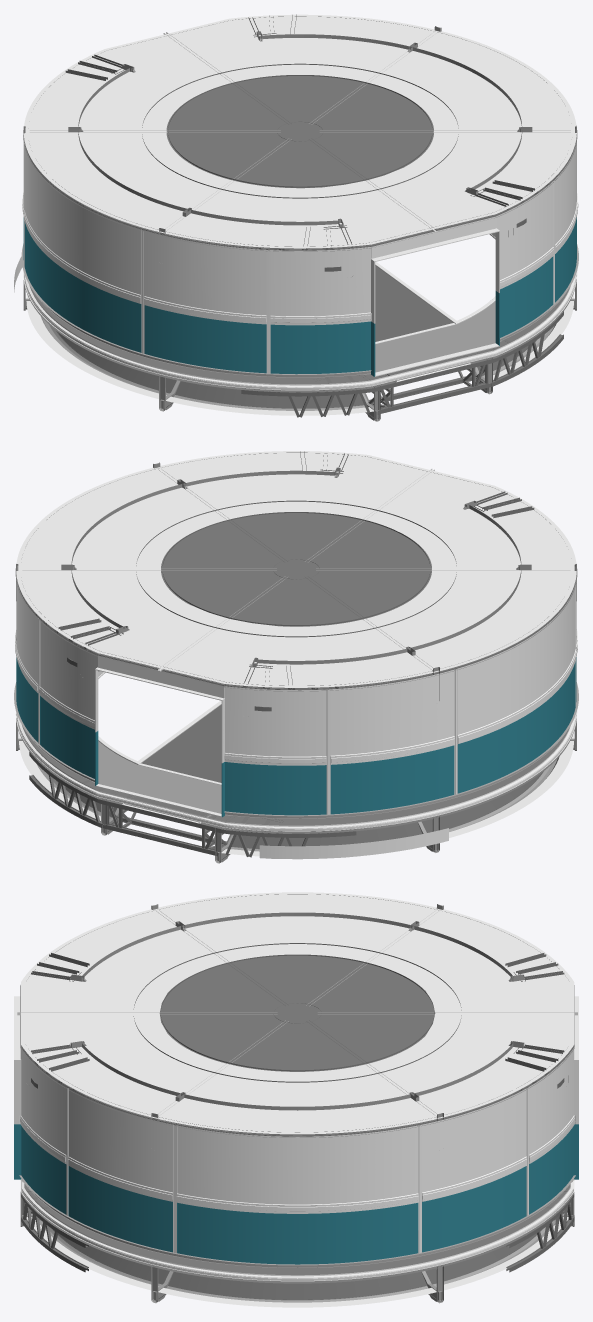
3 renders of one model, top to bottom at view 1: azimuth 30°, elevation 25°; view 2: azimuth 150°, elevation 25°; view 3: azimuth 270°, elevation 25°, orthographic. The views are drawn at different scales.
Parts seen in each view (by area): view 1: SM_H_Building_FutureTech_HOrange_01_InterWall_05D; view 2: SM_H_Building_FutureTech_HOrange_01_InterWall_05D; view 3: SM_H_Building_FutureTech_HOrange_01_InterWall_05D.
Part boxes in pixels (<box>): SM_H_Building_FutureTech_HOrange_01_InterWall_05D: <box>14,14,578,421</box>; SM_H_Building_FutureTech_HOrange_01_InterWall_05D: <box>14,451,578,863</box>; SM_H_Building_FutureTech_HOrange_01_InterWall_05D: <box>14,892,578,1307</box>.
Bounding box in the file's own units: 798 × 816 × 296.
